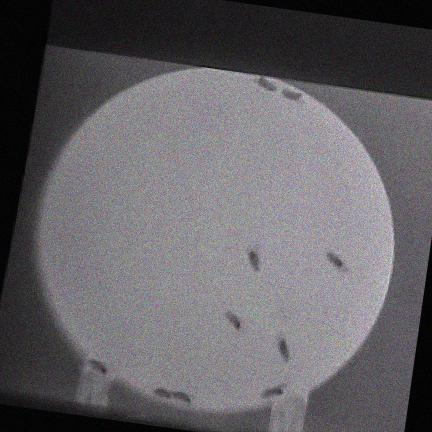fly: (325, 250, 346, 271), (224, 309, 242, 329), (276, 334, 289, 361), (260, 383, 284, 397), (171, 390, 195, 403), (88, 358, 106, 374), (247, 247, 259, 271), (280, 87, 301, 100), (257, 75, 275, 89), (153, 387, 171, 397)
